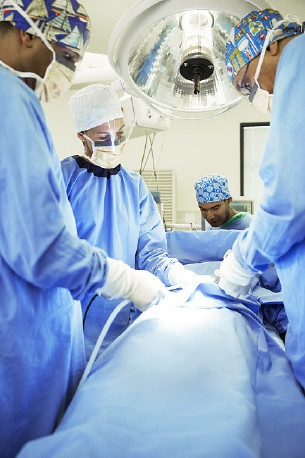Mask: (91, 122, 139, 171)
